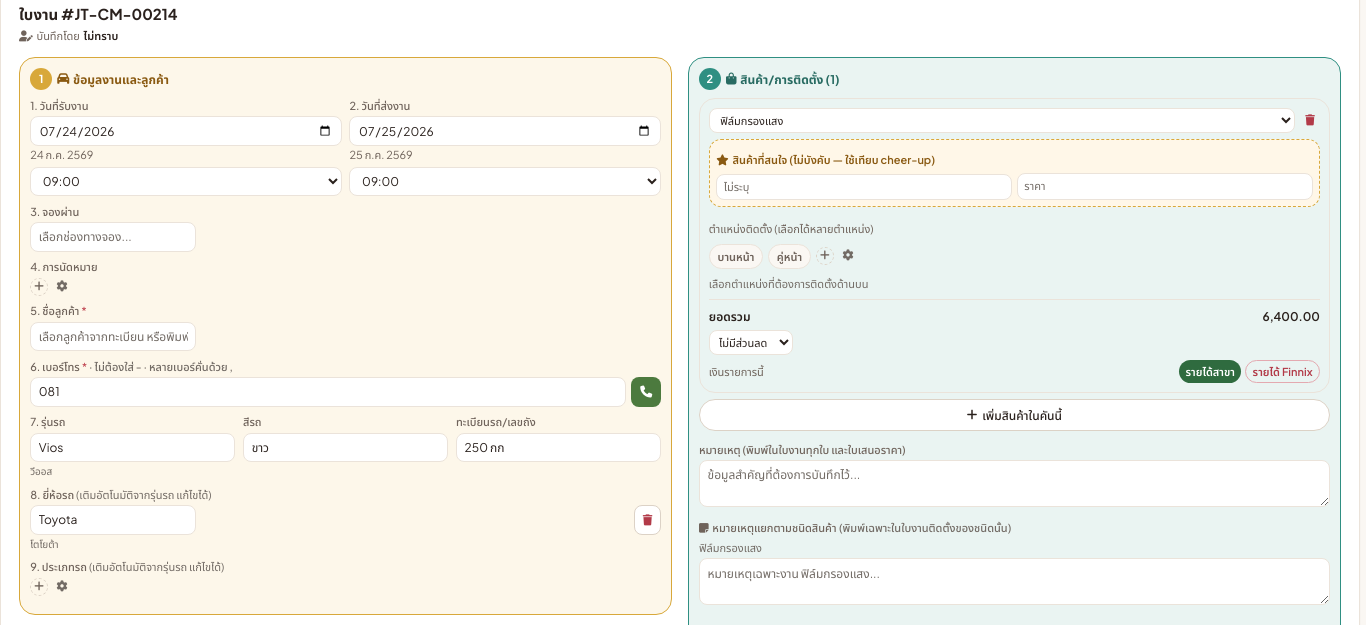
TicketDetail — บันทึกก่อนพิมพ์ › บันทึกไม่ผ่าน = ไม่พิมพ์
Type "ลูกค้าขอด่วน" into the text box named "หมายเหตุสำหรับ ฟิล์มกรองแสง" at (1014, 582), box [699,558,1330,605]
(page scrolled)
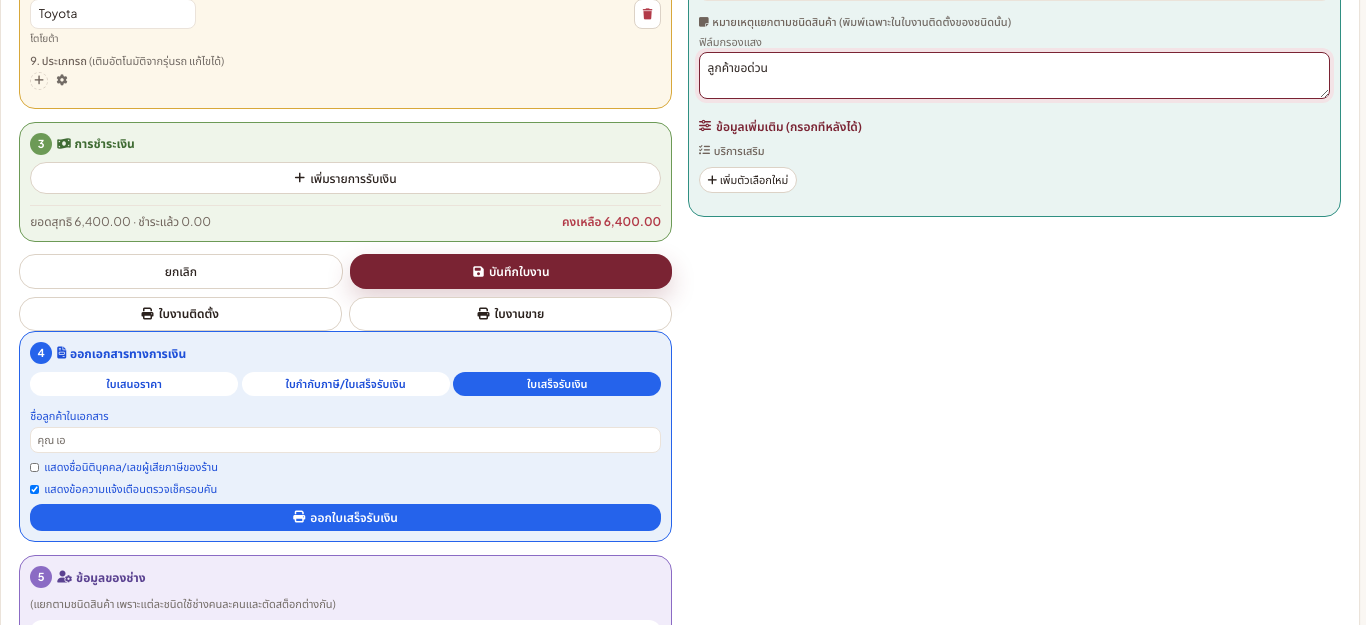
Click the button "ใบงานขาย" at (511, 314), box [350,297,672,331]
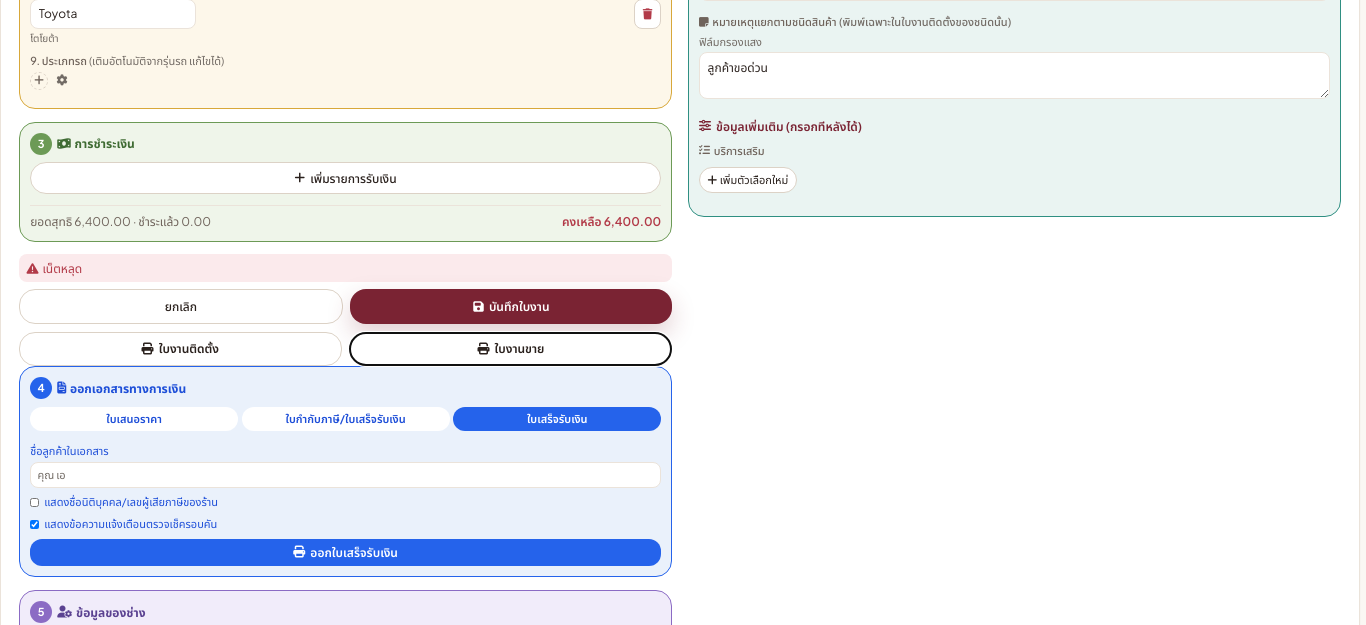
Expected: the text "เน็ตหลุด" is shown, [19,254,672,282]
